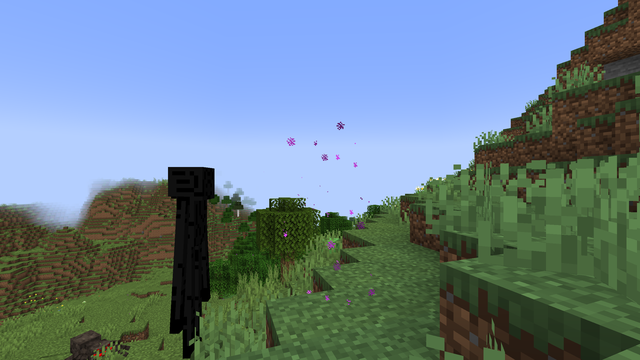araignees: (56, 324, 123, 359)
endermens: (166, 160, 213, 357)
slimes: (321, 236, 340, 255)
